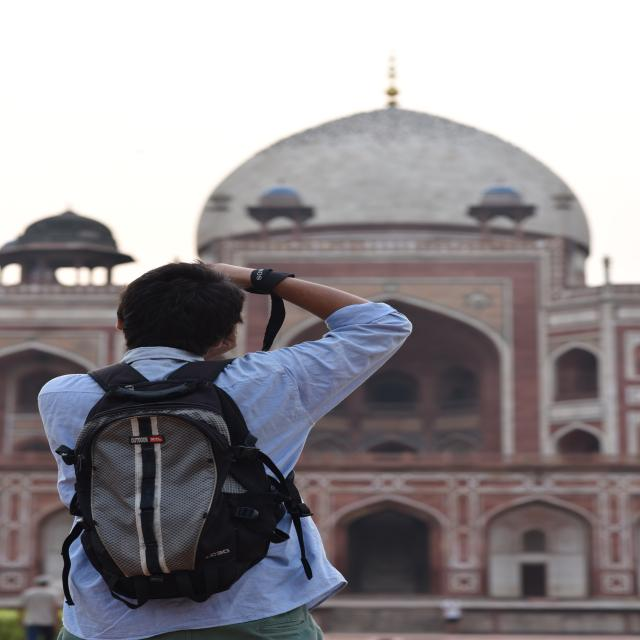backpack: (57, 357, 293, 606)
